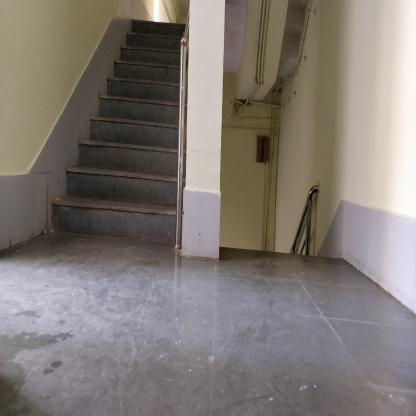stairs: (123, 30, 176, 245)
